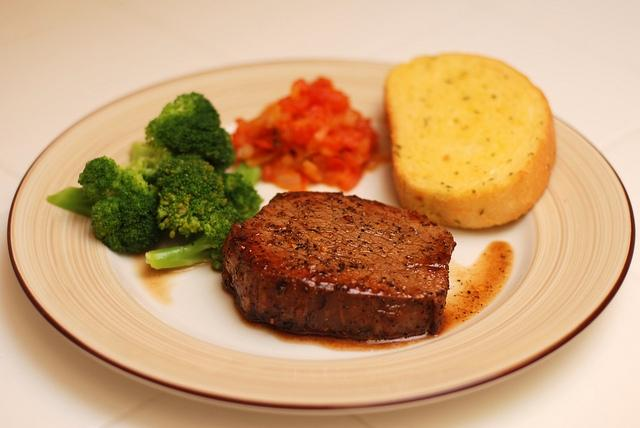broccoli: (145, 158, 245, 272), (130, 92, 236, 176), (77, 156, 162, 254), (220, 162, 266, 218)
